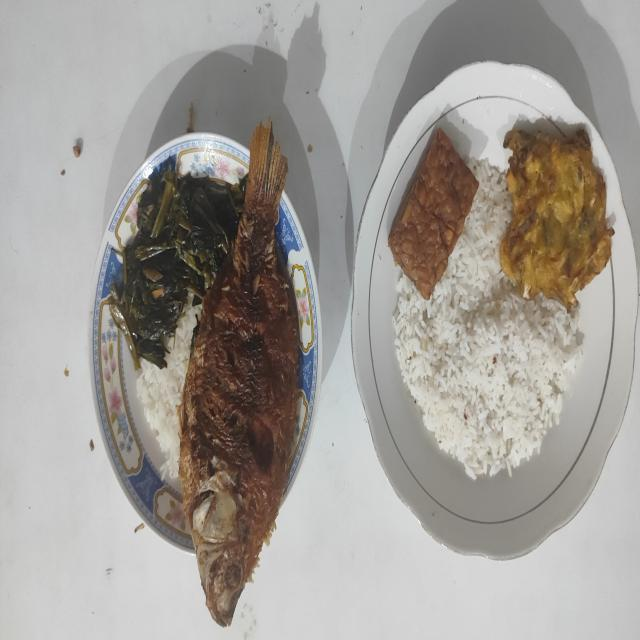ikan_mujair: (178, 124, 302, 626)
nasi_putih: (392, 160, 582, 479), (136, 304, 202, 479)
tempe_goreng: (388, 130, 478, 300)
tumis_kangkung: (110, 165, 246, 371)
